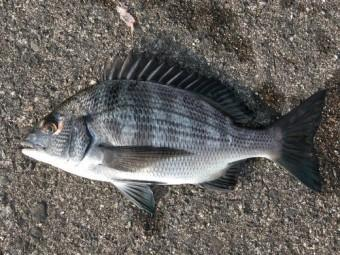fish: (21, 52, 326, 211)
